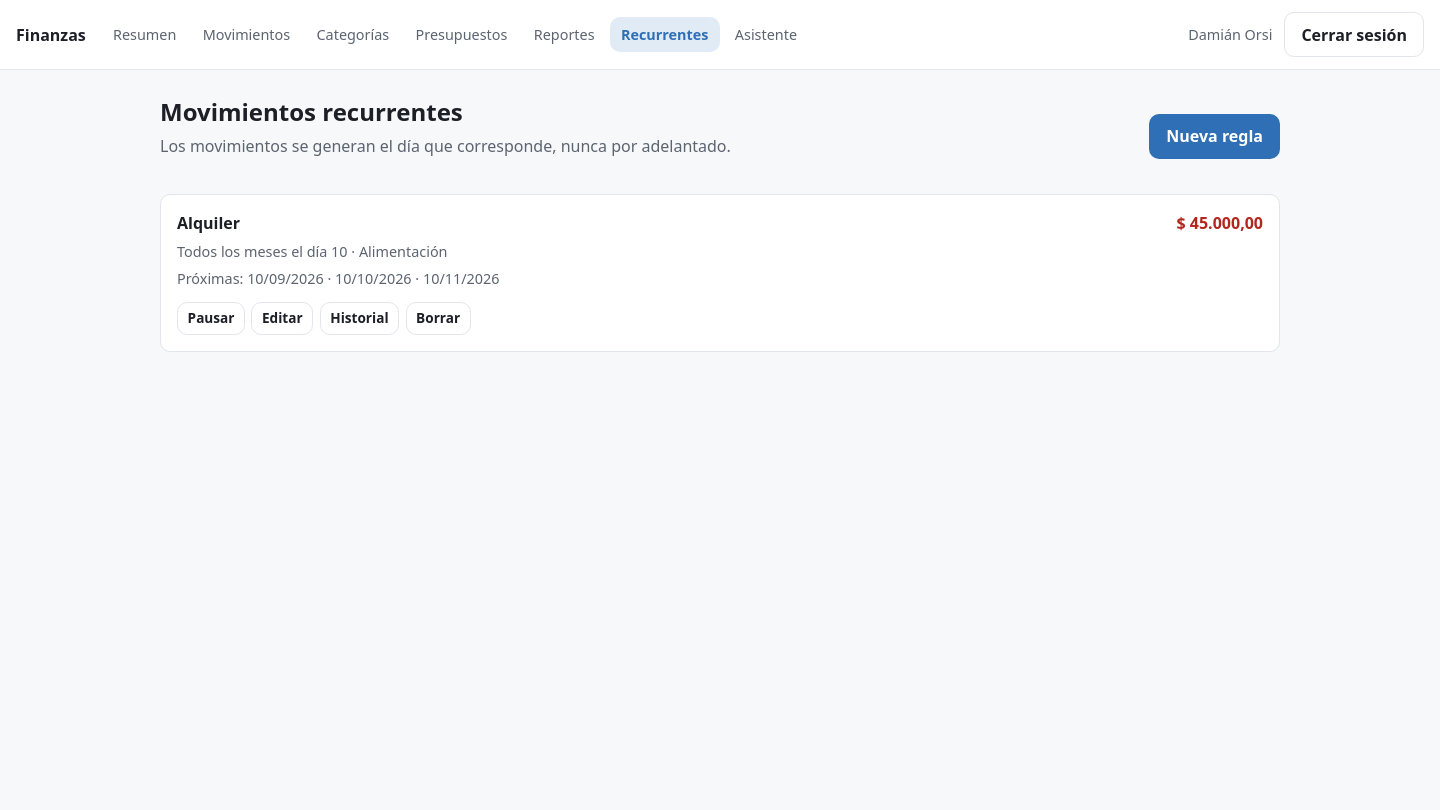
RecurringPage: alta › no envía si falta la categoría
The image size is (1440, 810).
Step 1. Click the button "Nueva regla" → (1215, 136), box [1149, 114, 1280, 159]
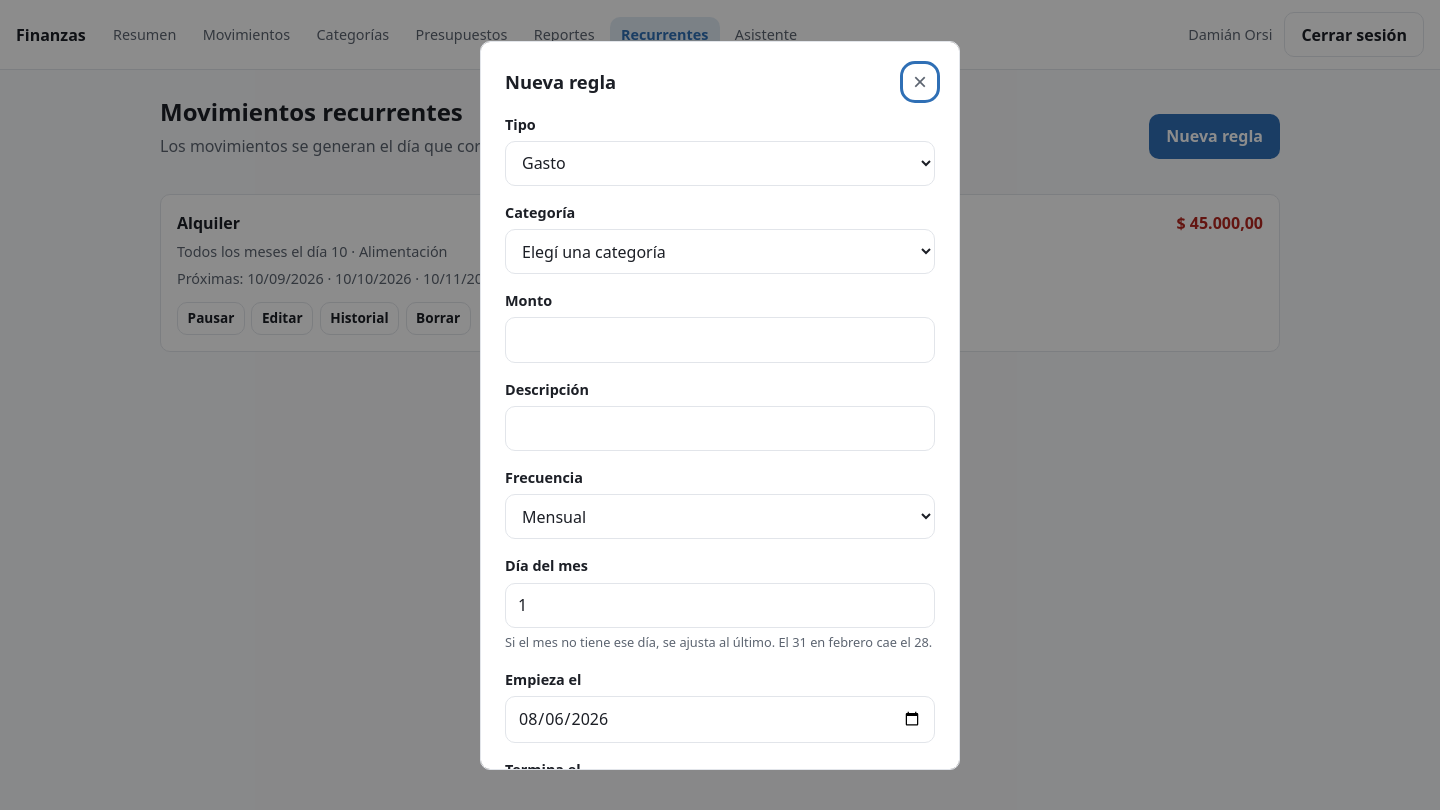
Step 2. Type "1000" into the number field labelled "Monto" → (720, 340), box [505, 318, 935, 363]
(page scrolled)
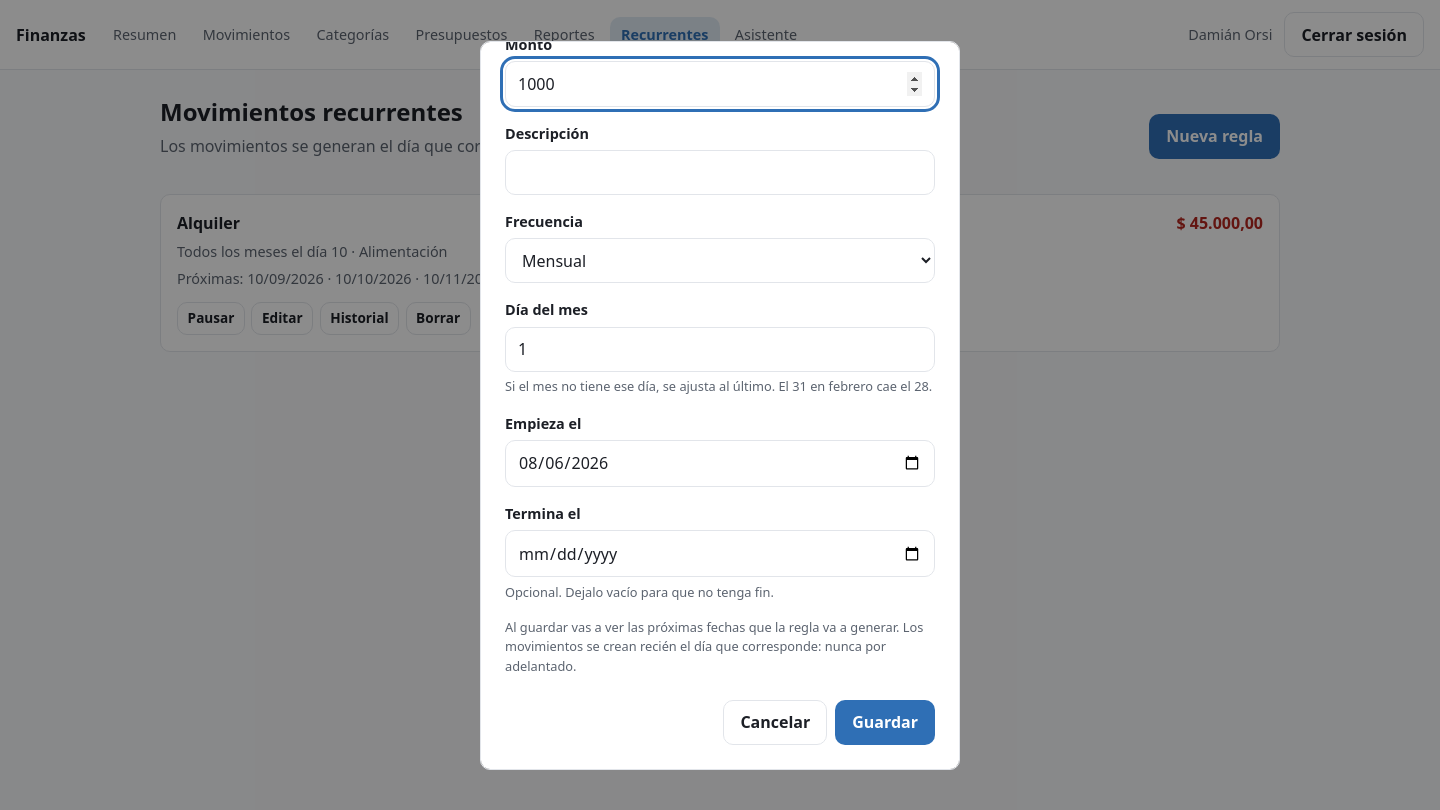
Step 3. Click the button "Guardar" → (885, 722), box [835, 700, 935, 745]
(page scrolled)
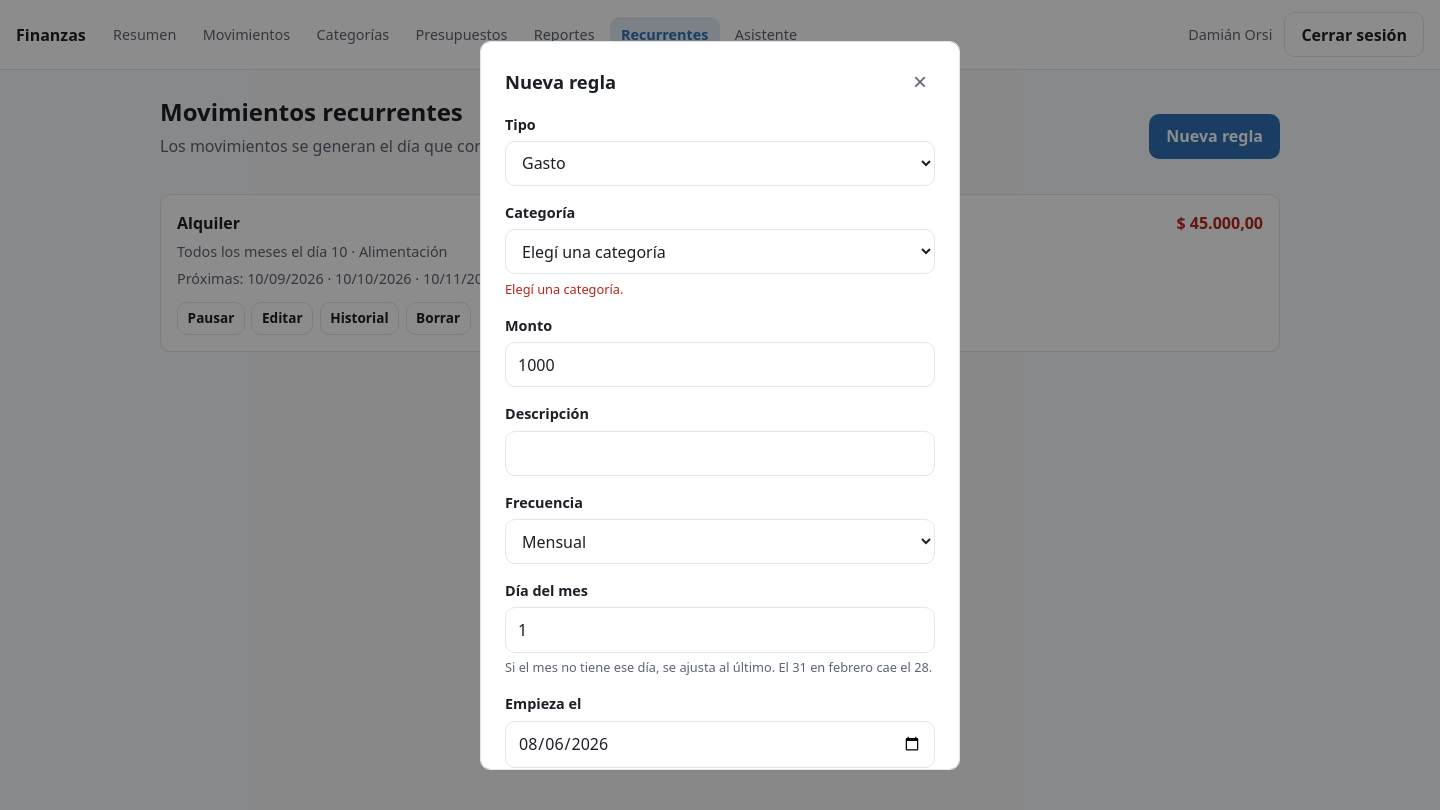
Expected: the message shows "Elegí una categoría", [505, 280, 623, 298]
